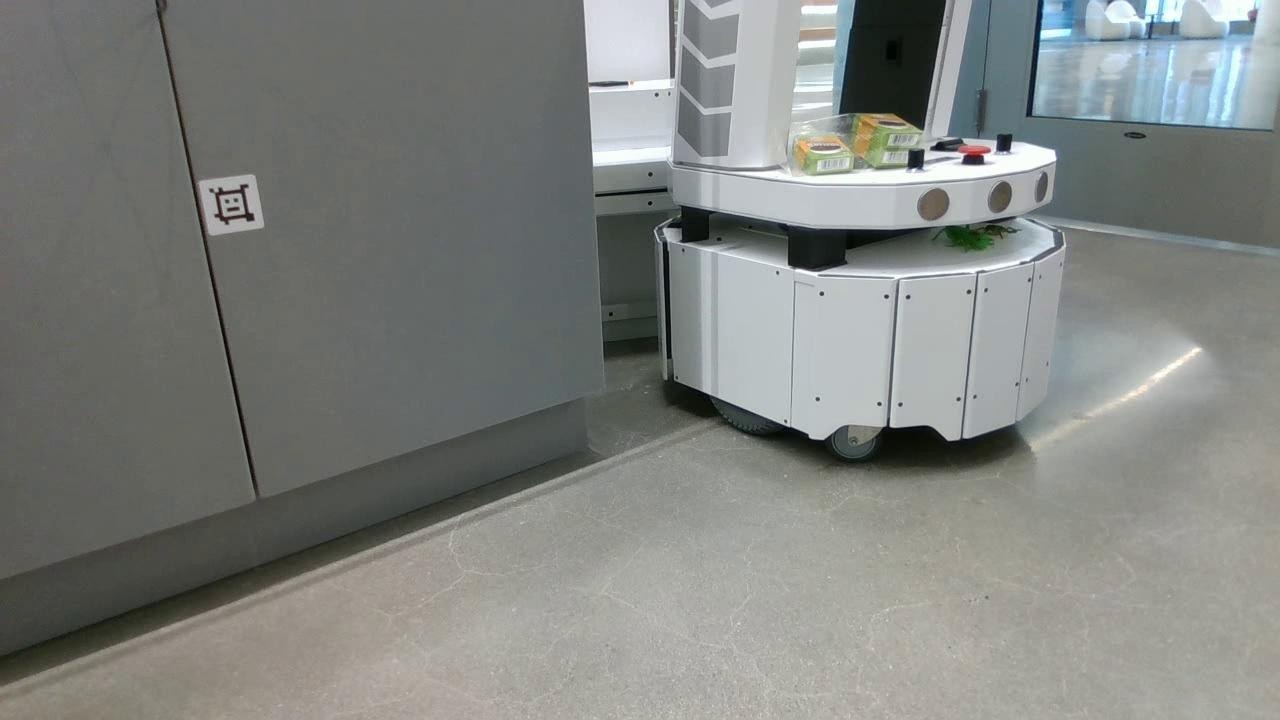grasshopper: (931, 224, 994, 253)
